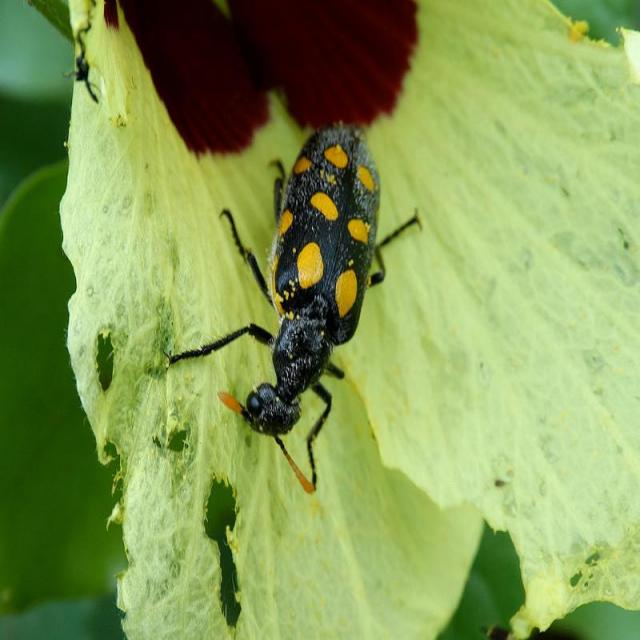BlisterBeetle-Adult-: (194, 100, 440, 493)
